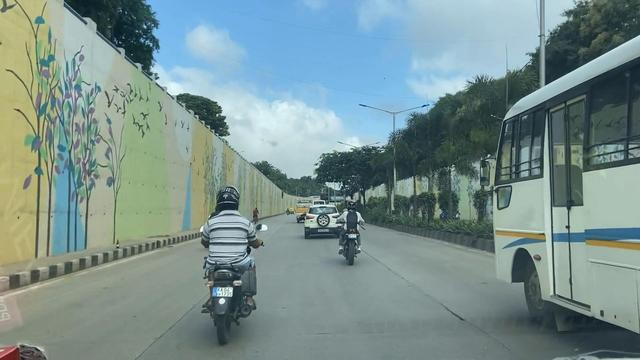LMV: (205, 187, 256, 333), (340, 196, 359, 260), (304, 207, 339, 236)
